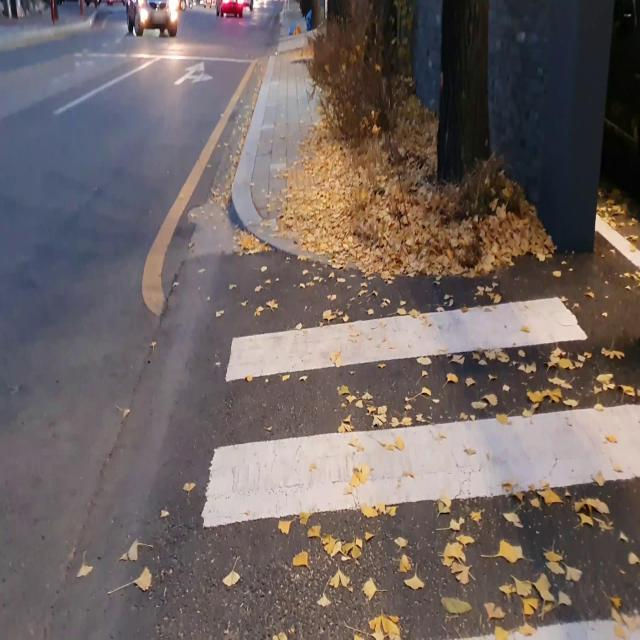crosswalk: (186, 294, 640, 640)
